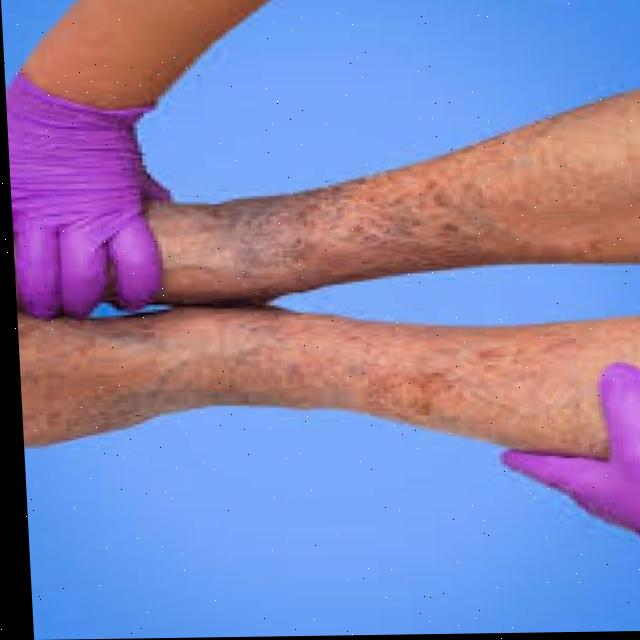Eczema: (57, 303, 574, 424), (185, 159, 499, 282)
